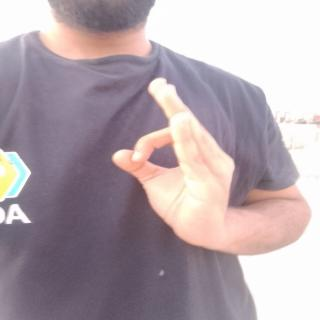Space: (105, 70, 239, 235)
